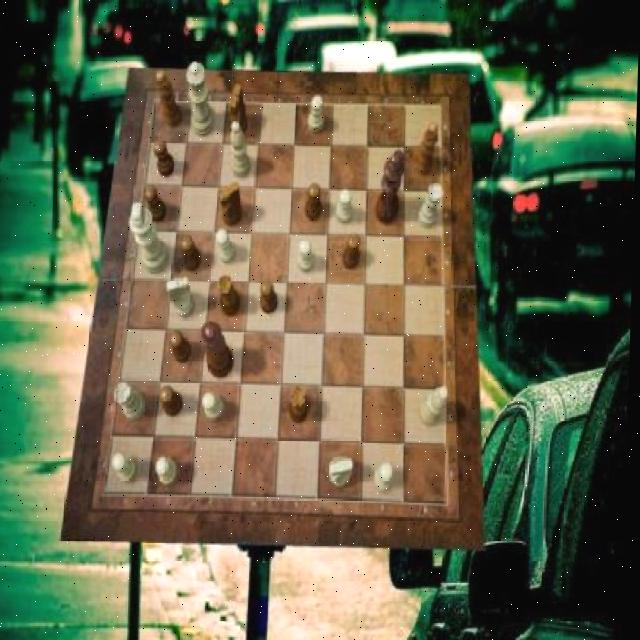bishop: (156, 69, 185, 127), (413, 121, 439, 176)
black-bishop: (377, 149, 406, 224)
black-king: (219, 181, 244, 227), (228, 83, 249, 137)
black-knight: (144, 186, 168, 222), (154, 139, 177, 176), (182, 236, 204, 272), (171, 330, 194, 364), (161, 386, 185, 417), (305, 183, 323, 221), (344, 234, 362, 270), (261, 282, 280, 316)
black-pawn: (199, 322, 236, 379)
black-queen: (219, 274, 243, 316), (291, 386, 313, 424)
black-rook: (229, 122, 252, 179), (420, 385, 451, 426)
white-bishop: (128, 203, 173, 274)
white-king: (167, 278, 197, 318), (330, 457, 356, 488)
white-knight: (113, 454, 140, 483), (217, 229, 239, 264), (157, 457, 180, 485), (203, 392, 226, 420), (336, 189, 354, 224), (299, 238, 317, 272), (308, 95, 324, 133), (377, 463, 397, 492)
white-pawn: (185, 62, 217, 136)
white-queen: (115, 383, 148, 422), (418, 183, 443, 229)
